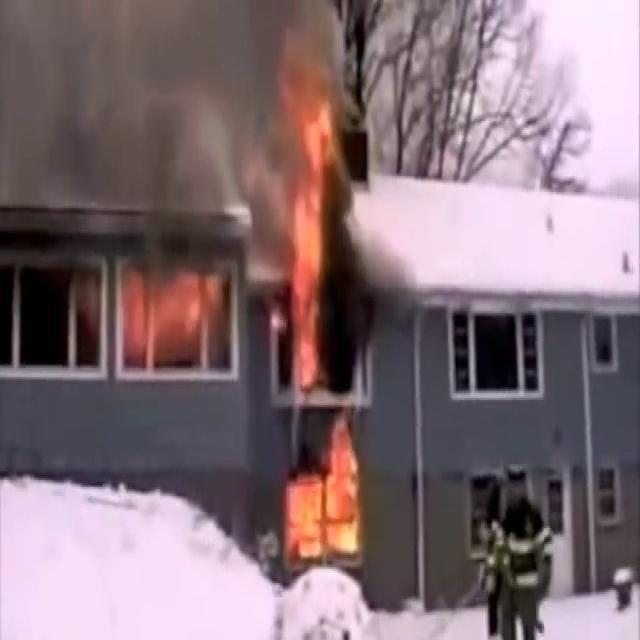Fire: (277, 54, 340, 399)
Smoke: (0, 0, 352, 245)
